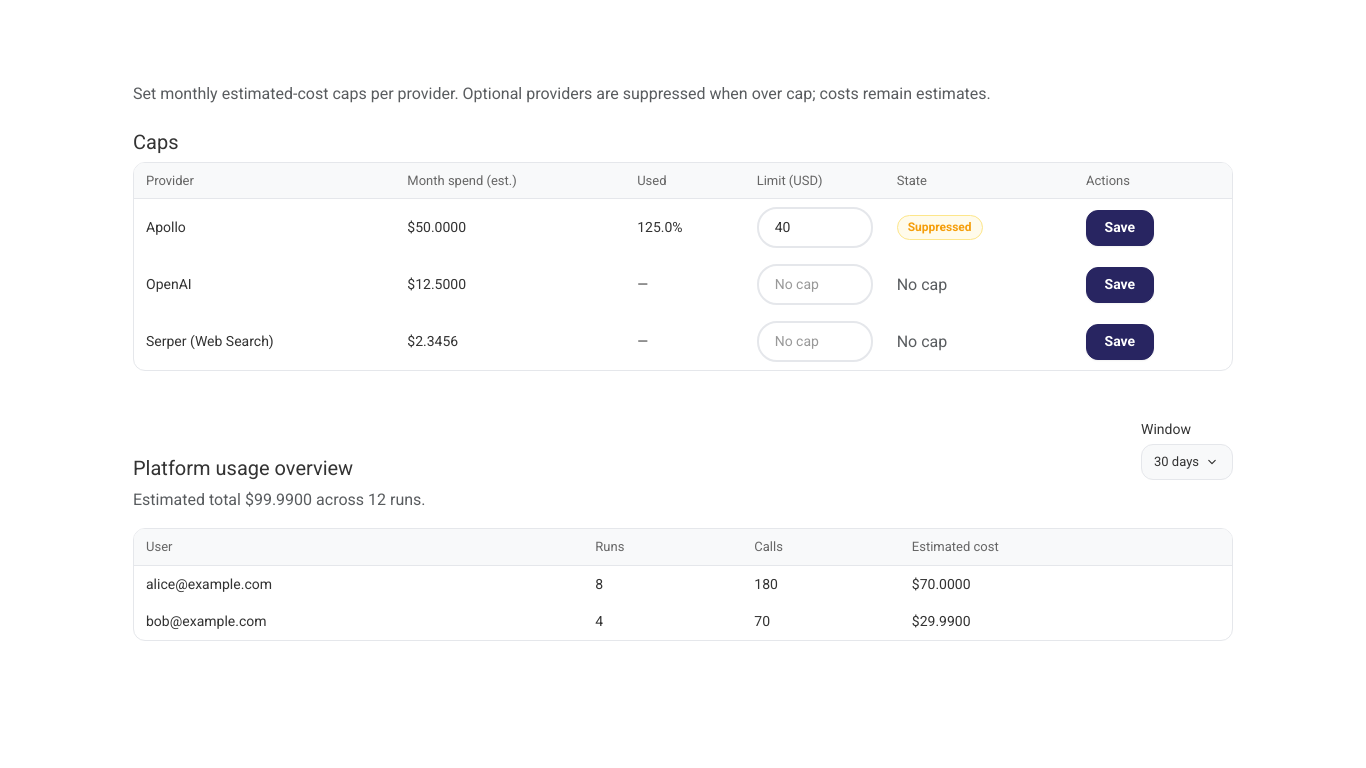
Test: AdminProviderBudgetsPage › surfaces verbatim 400 messages from the API
Check: the row with test id "admin-budget-serper_api_key" is shown, box [134,313,1232,370]
In the field with test id "limit-input-serper_api_key": (815, 342) [757,321,873,362], type "12"
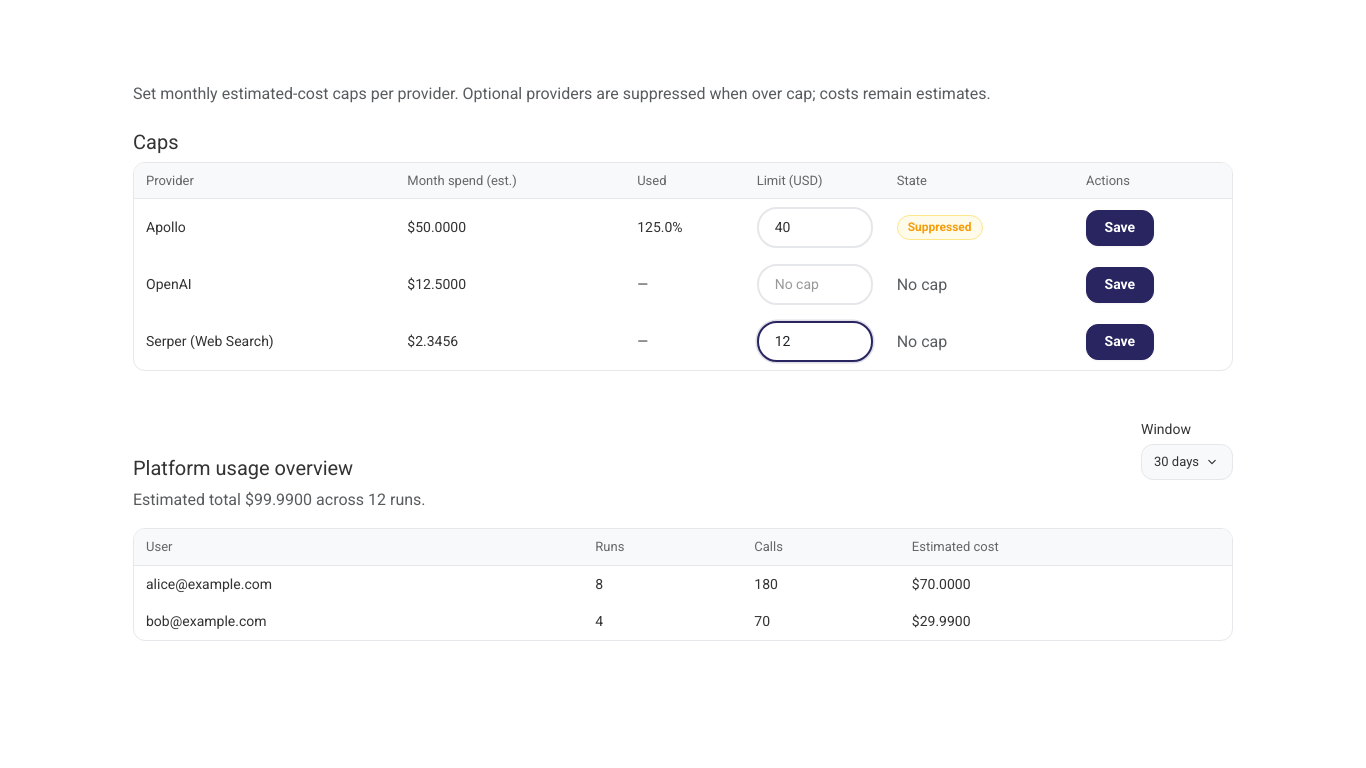
Click the button with test id "save-budget-serper_api_key": (1120, 342) [1086,324,1154,360]
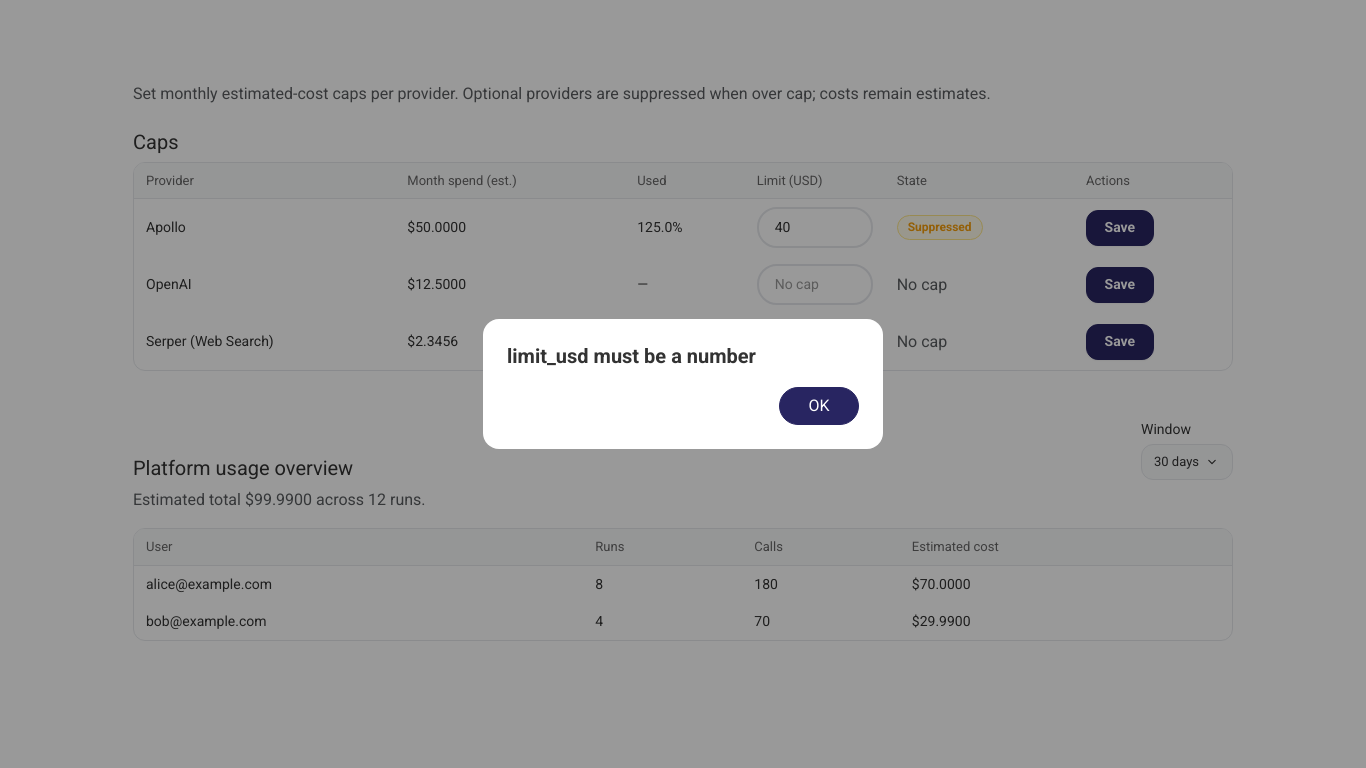
Check: the heading "limit_usd must be a number" is shown, box [507,344,756,368]
